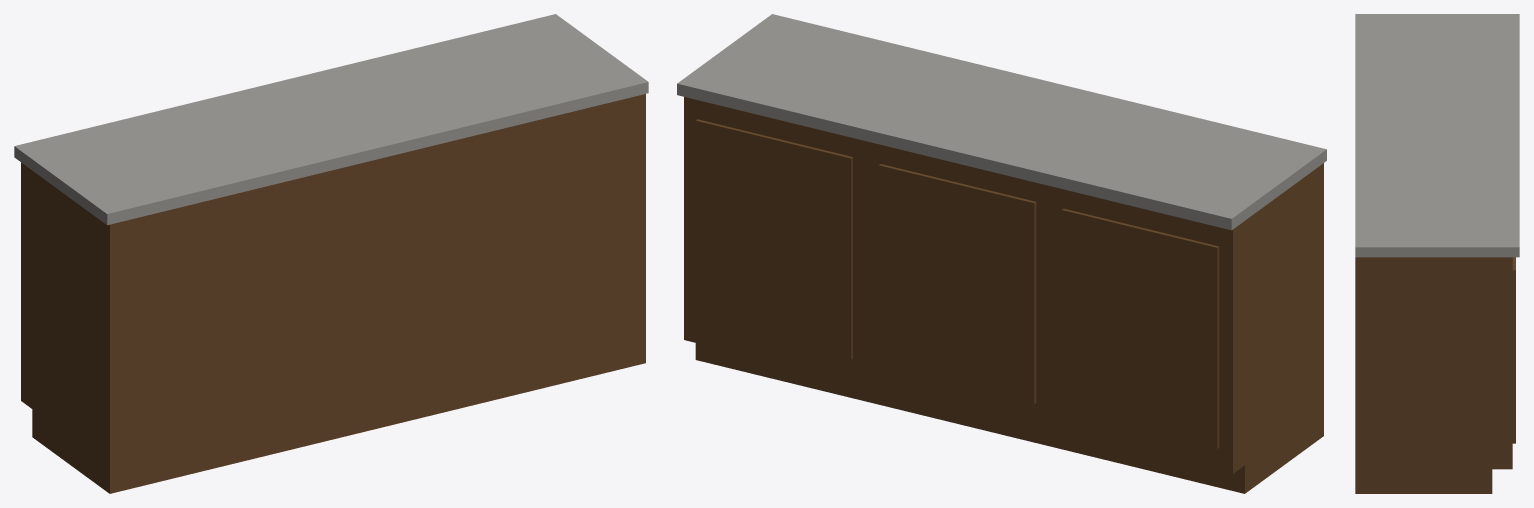
Rendered from parametric-counter-1st-pub.glb.
3 renders of one model, left to right at view 1: azimuth 30°, elevation 25°; view 2: azimuth 150°, elevation 25°; view 3: azimuth 270°, elevation 25°, orthographic. The views are drawn at different scales.
Parts seen in each view (by area): view 1: parametric-counter-1st-pub; view 2: parametric-counter-1st-pub; view 3: parametric-counter-1st-pub.
Boxes of the visible parts, left/top/right/bottom form: parametric-counter-1st-pub: left=14, top=14, right=648, bottom=493; parametric-counter-1st-pub: left=677, top=14, right=1326, bottom=493; parametric-counter-1st-pub: left=1355, top=14, right=1519, bottom=493.
Bounding box in the file's own units: 2.02 × 1 × 0.6.
